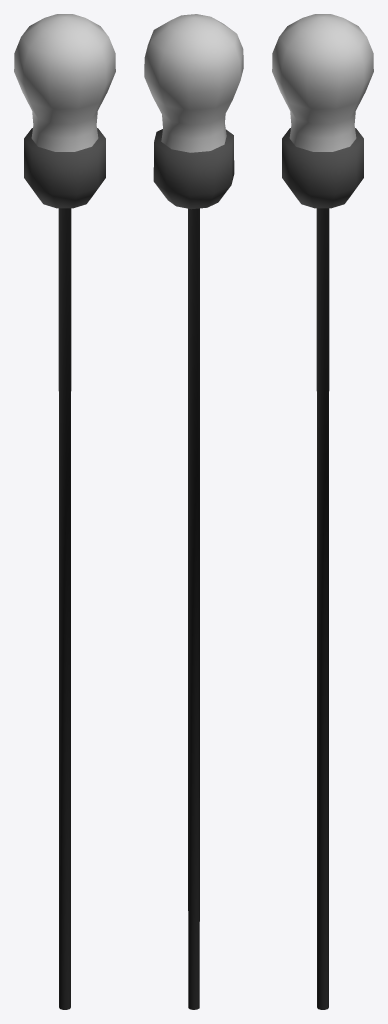
File: Lamp.fbx
3 views of the same model, side by side, from view 1: azimuth 90°, elevation 25°; view 2: azimuth 210°, elevation 25°; view 3: azimuth 270°, elevation 25° (orthographic).
Visible parts, largest first — view 1: Lamp.001; view 2: Lamp.001; view 3: Lamp.001.
Boxes of the visible parts, <box> form: Lamp.001: <box>14,14,115,1009</box>; Lamp.001: <box>144,14,243,1009</box>; Lamp.001: <box>272,14,373,1009</box>.
Size of the model in its own units: 0.1367 by 1.54 by 0.1437.
